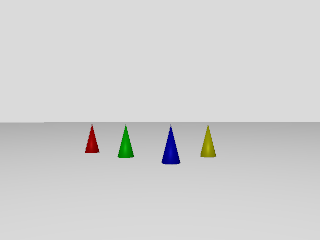blue: (161, 122, 180, 166)
green: (118, 123, 135, 160)
red: (84, 123, 99, 153)
yellow: (198, 123, 219, 158)
